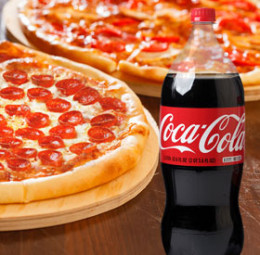coke: (166, 9, 246, 255)
